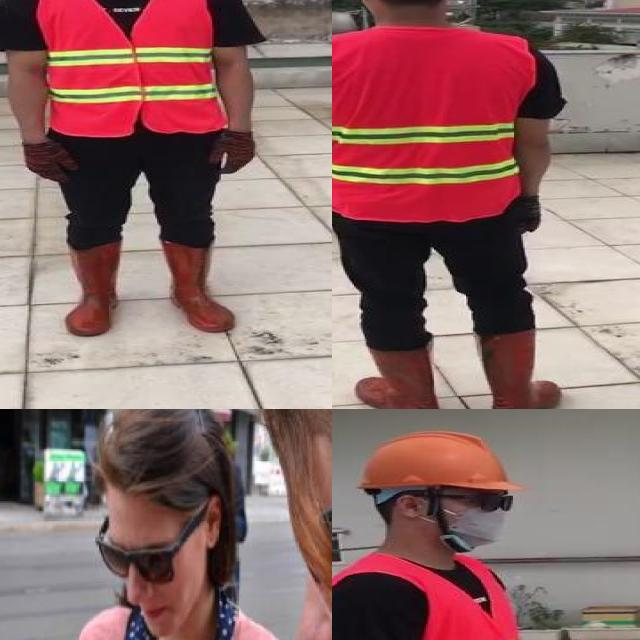boots: (469, 331, 563, 409), (160, 238, 233, 333), (65, 240, 122, 339), (355, 346, 444, 409)
face_mask: (433, 484, 517, 548)
face_nomask: (94, 529, 191, 633)
glasses: (88, 531, 180, 587), (455, 486, 523, 514)
hand_glove: (27, 140, 79, 181), (210, 130, 256, 170), (516, 196, 540, 233)
head_helmet: (338, 431, 523, 498)
head_nohelmet: (90, 413, 218, 510)
person: (332, 0, 582, 409), (0, 0, 276, 337), (48, 409, 299, 640), (332, 430, 586, 640)
vest: (332, 27, 526, 220), (34, 0, 222, 135), (332, 551, 543, 640)
